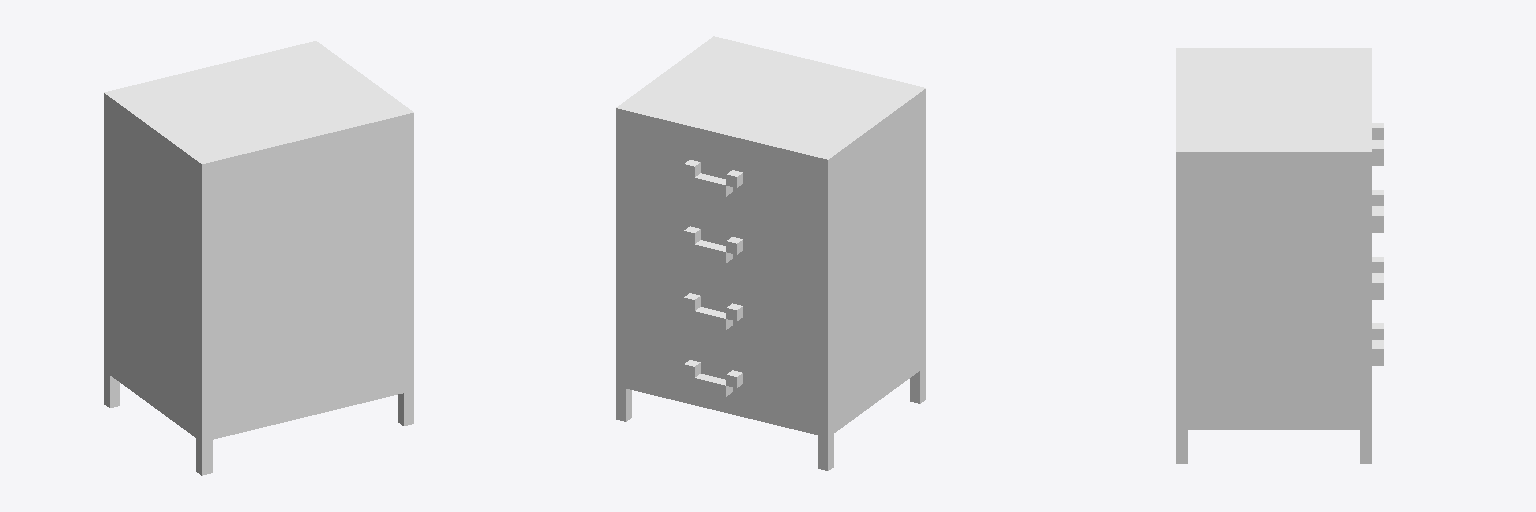
File: Project-6.obj
3 renders of one model, left to right at view 1: azimuth 30°, elevation 25°; view 2: azimuth 150°, elevation 25°; view 3: azimuth 270°, elevation 25°, orthographic.
Visible parts, largest first — view 1: object 1; view 2: object 1; view 3: object 1.
Part boxes in pixels (x1,y1,x2,y2): object 1: (104,41,413,475); object 1: (616,36,925,470); object 1: (1176,48,1383,463).
Bounding box in the file's own units: 2 × 2.8 × 1.7.